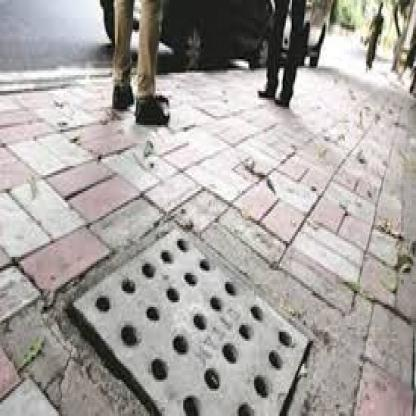open drainage-not overflowing-: (67, 225, 313, 416)
